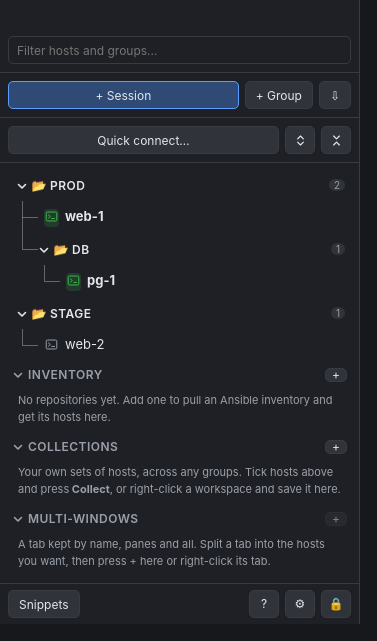
Test: finding and folding folders › shows a folder whose name matches with everything in it
Type "PROD" into the field with placeholder "Filter hosts and groups…" at coordinates (180, 50), box 8,36 -> 351,64
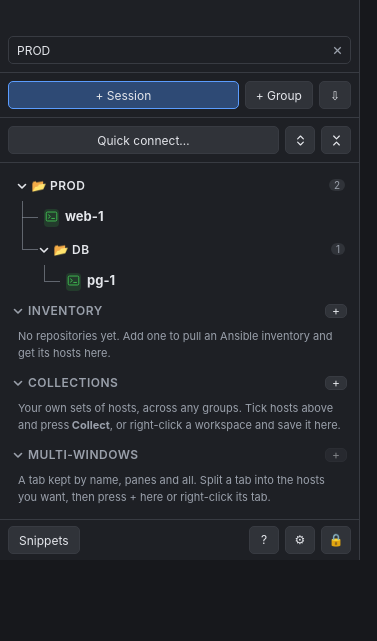
Expected: the text "prod" is shown, 50,178 -> 85,192
Now the text "stage" is gone
Now the text "web-2" is gone
